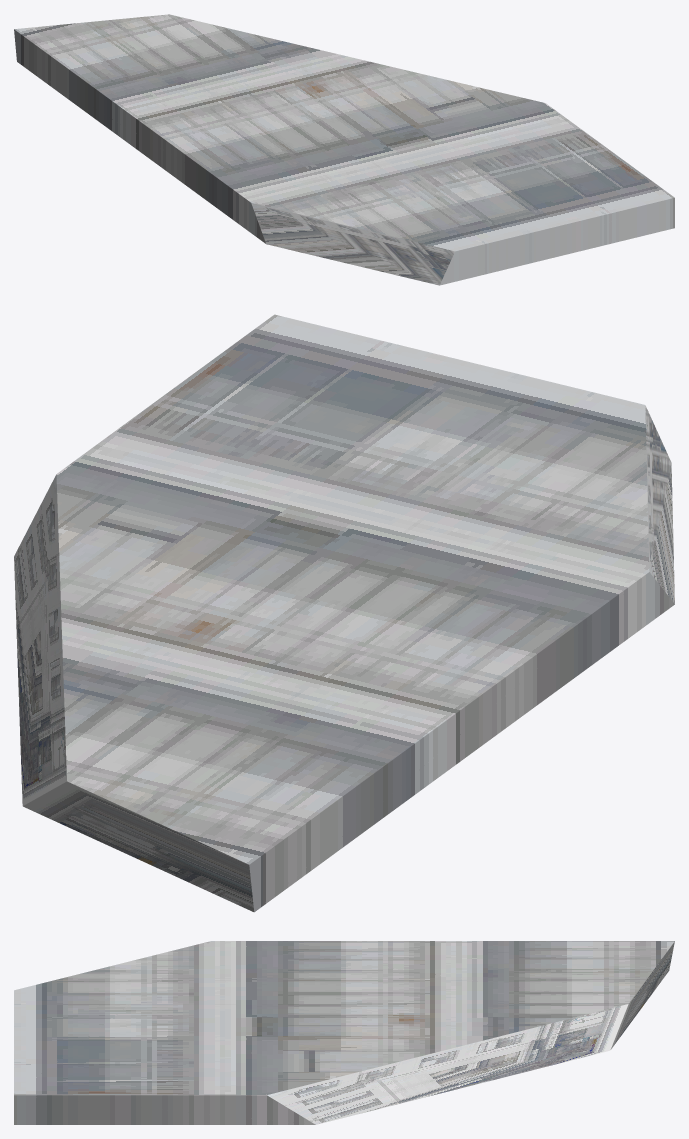
File: 025_highriserWall_cell_006.gltf
3 renders of one model, top to bottom at view 1: azimuth 30°, elevation 25°; view 2: azimuth 150°, elevation 25°; view 3: azimuth 270°, elevation 25°, orthographic. The views are drawn at different scales.
Visible parts, largest first — view 1: highriserWall_cell_006; view 2: highriserWall_cell_006; view 3: highriserWall_cell_006.
Boxes of the visible parts, box(x1,y1,x2,y2) form: highriserWall_cell_006: box(14, 14, 674, 285); highriserWall_cell_006: box(14, 314, 674, 912); highriserWall_cell_006: box(14, 941, 674, 1124).
Bounding box in the file's own units: 4.09 × 0.3682 × 7.42.
2 materials, 2 textured.
